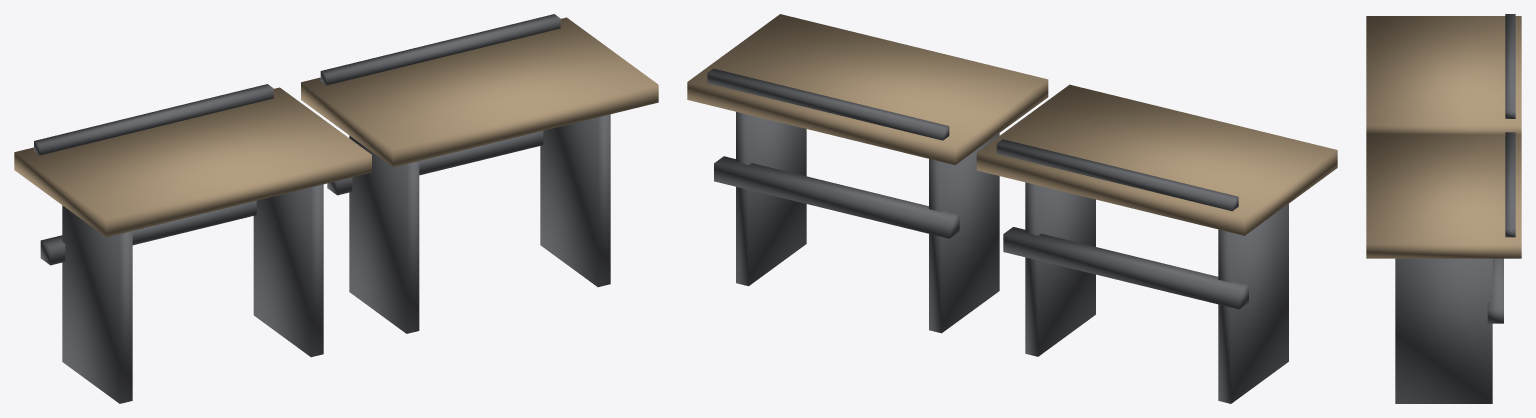
Rendered from drafting_table__cluster.glb.
The picture shows the model from 3 angles, left to right: view 1: azimuth 30°, elevation 25°; view 2: azimuth 150°, elevation 25°; view 3: azimuth 270°, elevation 25°; orthographic projection. The views are drawn at different scales.
Parts seen in each view (by area): view 1: world; view 2: world; view 3: world.
Boxes of the visible parts, <box> form: world: <box>14,14,658,403</box>; world: <box>687,14,1337,403</box>; world: <box>1366,14,1521,403</box>.
Bounding box in the file's own units: 2.6 × 0.965 × 0.75.
